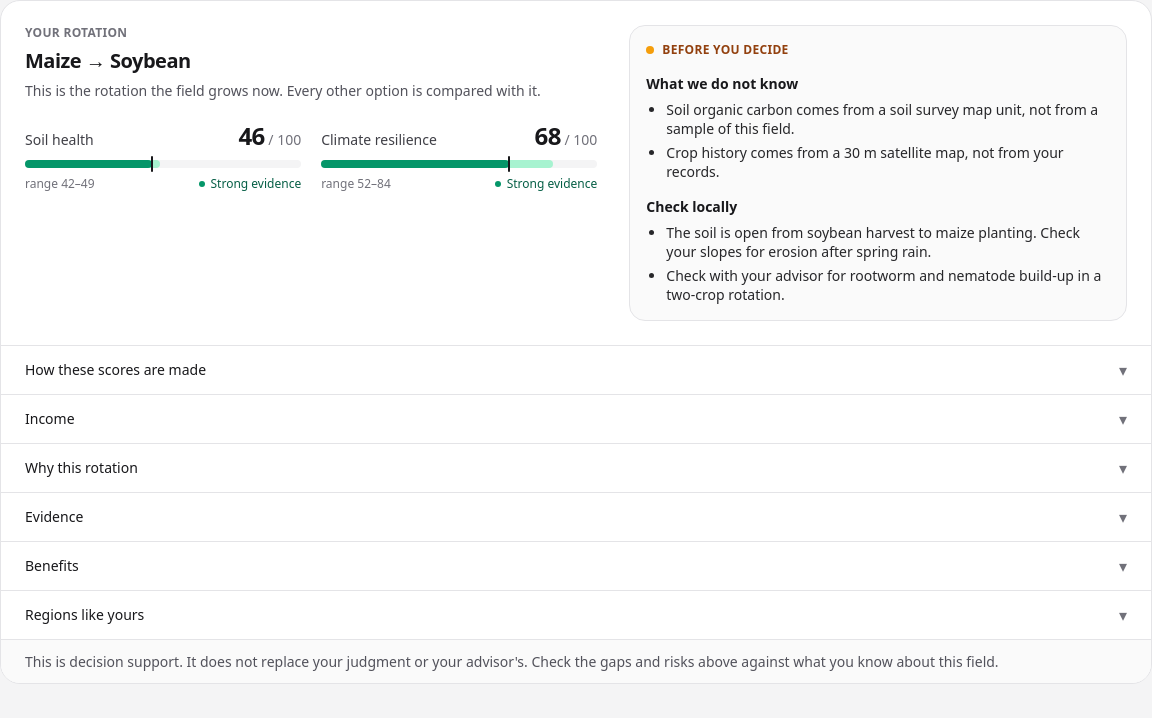
Test case: RotationCard › shows the title, the first reason, the scores, the calendar and the first gaps and risks; the rest is folded
The image size is (1152, 718).
expect the text "This is the rotation the field grows now. Every other option is compared with it." is shown: met, box top-left (25, 80), bottom-right (541, 100)
expect the text "Soybean fixes nitrogen that the next maize crop can use." is not shown: met
Click the heading "Evidence". click: (54, 517)
box: top-left (25, 507), bottom-right (83, 527)
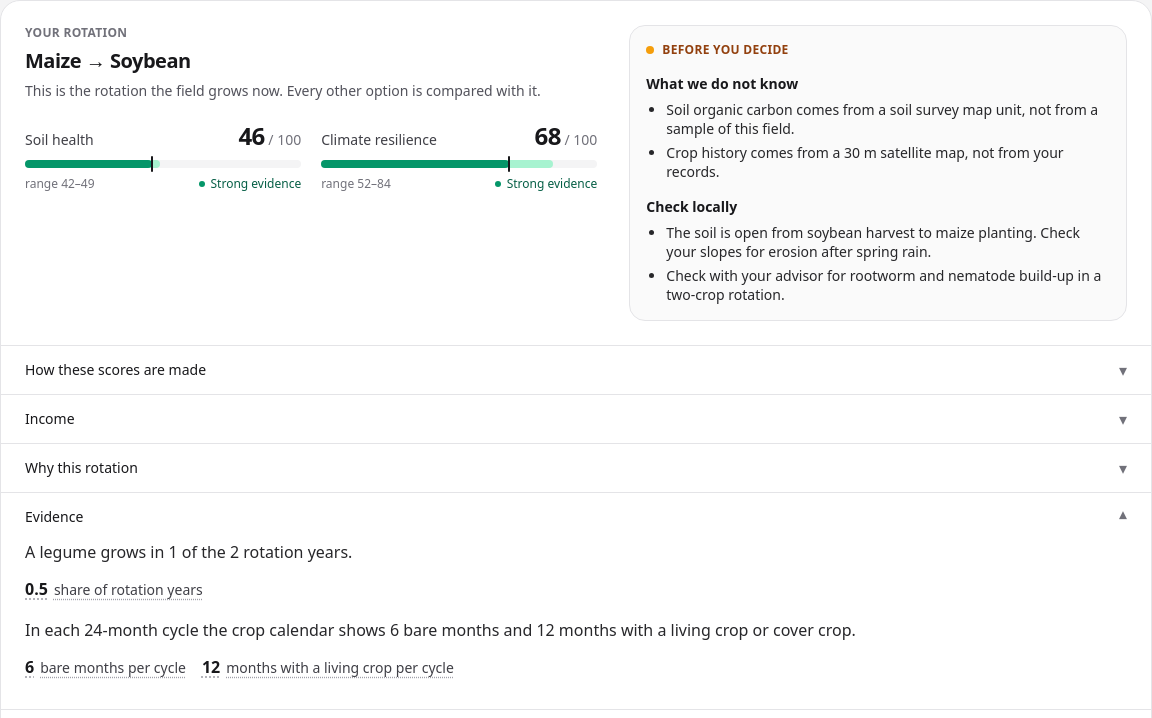
Click the heading "Why this rotation". click: (81, 468)
box: top-left (25, 458), bottom-right (138, 478)
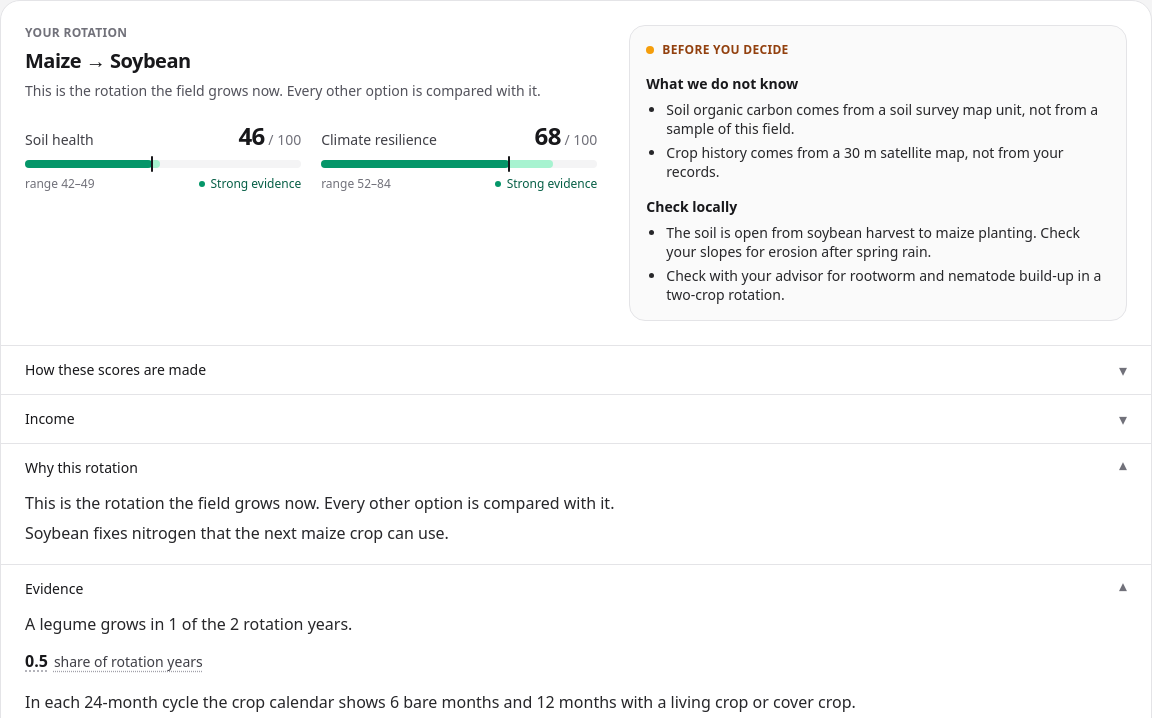
expect the text "Soybean fixes nitrogen that the next maize crop can use." is shown: met, box top-left (25, 522), bottom-right (449, 544)
